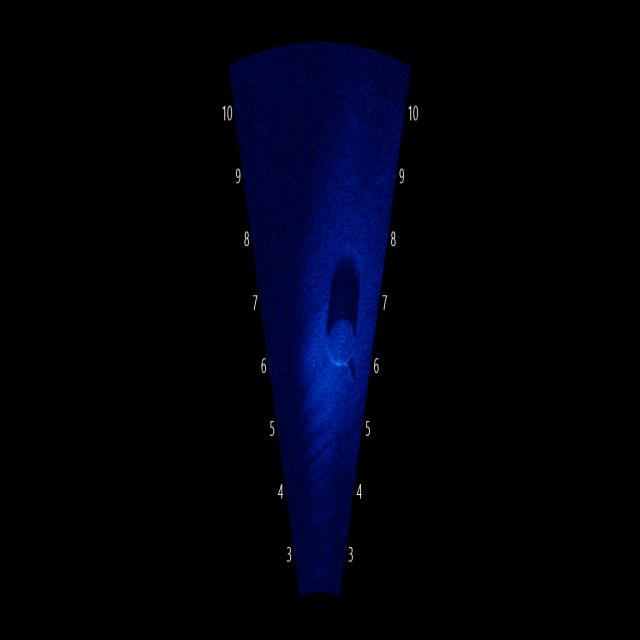circle: (311, 279, 372, 389)
